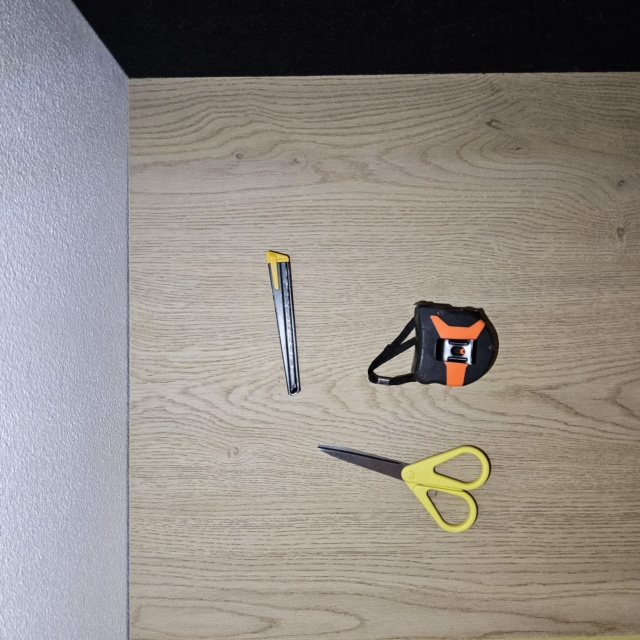scissor: (317, 443, 492, 533)
